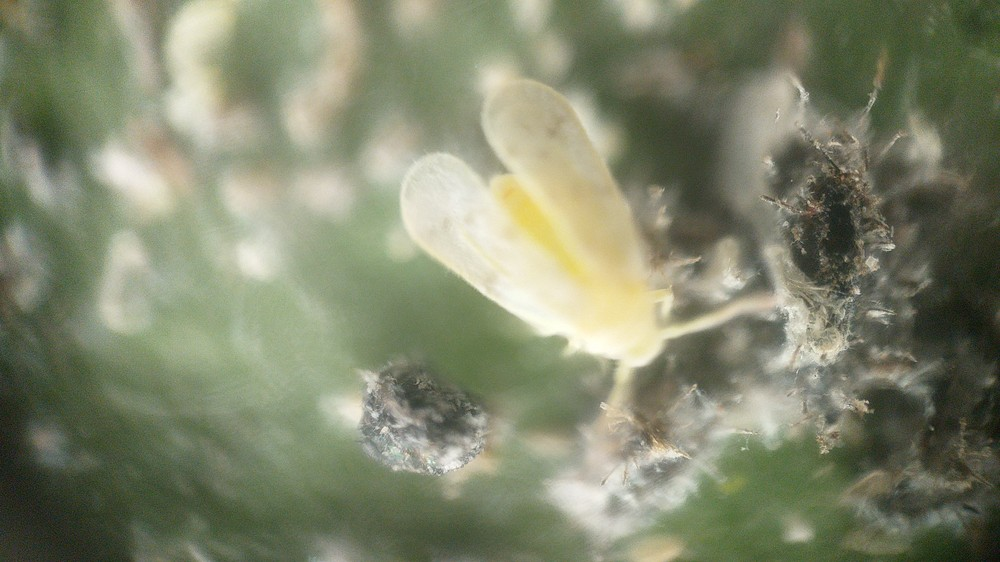Mosca Blanca: (375, 76, 809, 448)
